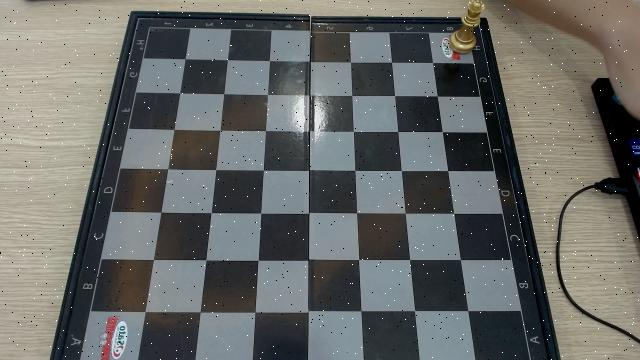black_queen: (448, 0, 486, 53)
